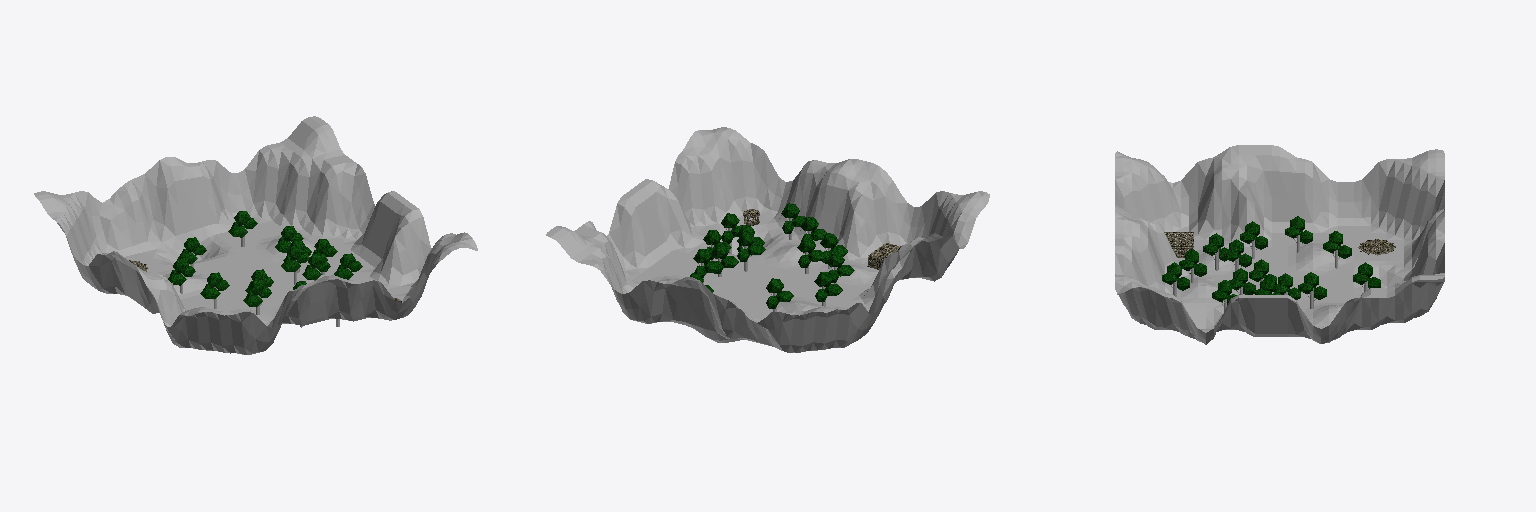
The picture shows the model from 3 angles: view 1: azimuth 30°, elevation 25°; view 2: azimuth 150°, elevation 25°; view 3: azimuth 270°, elevation 25°; orthographic projection.
Visible parts, largest first — view 1: Plane4; view 2: Plane4; view 3: Plane4.
Boxes of the visible parts, box(x1,y1,x2,y2) form: Plane4: box(34, 116, 477, 354); Plane4: box(546, 127, 989, 352); Plane4: box(1115, 145, 1444, 344).
Bounding box in the file's own units: 95.39 × 29.31 × 95.39.
5 materials, 2 textured.